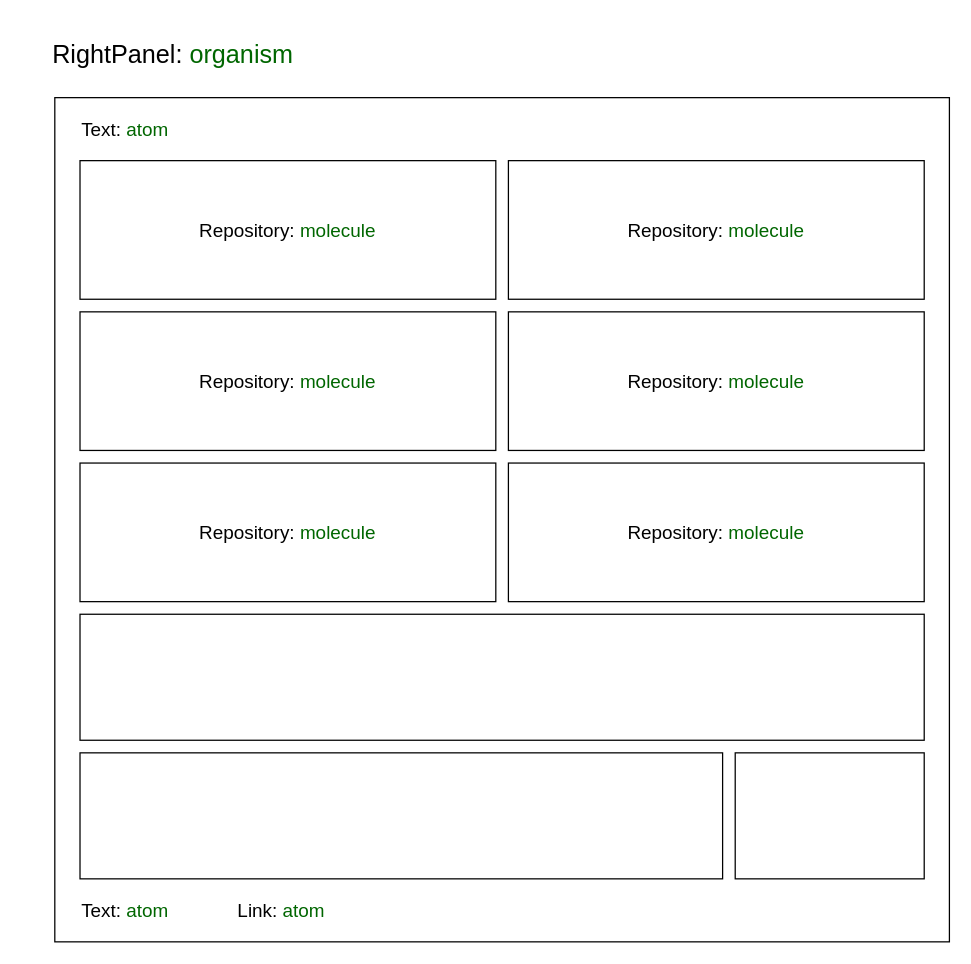
Some shapes in this 971 by 964 pixel diagram are drawn without their labels. Here are the shapes that lost their labels. From the top down, the box of each, then its label:
(79, 613, 924, 740): ContributionsPerYear: molecule
(79, 752, 723, 879): ContributionActivity: molecule
(734, 752, 924, 879): Years: molecule
